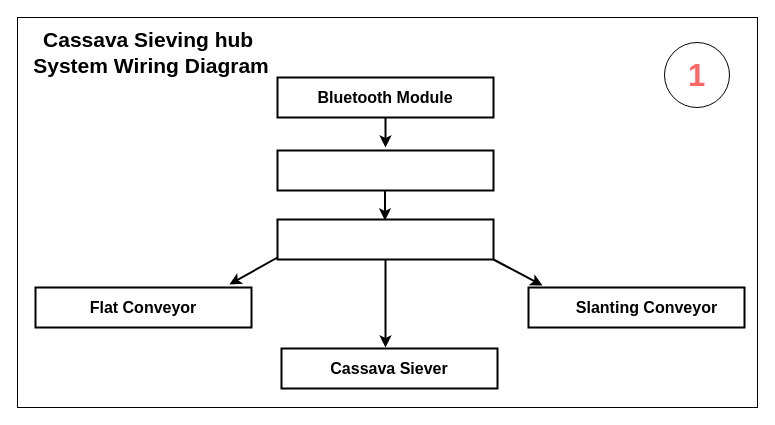
Image size: 775x425. Some labels were removed from this diagram. Here are the shapes that lost their labels. From the top down, the centre of each, then its label:
At point 385,170: "Arduino Board".
At point 385,239: "Relay Modules".
